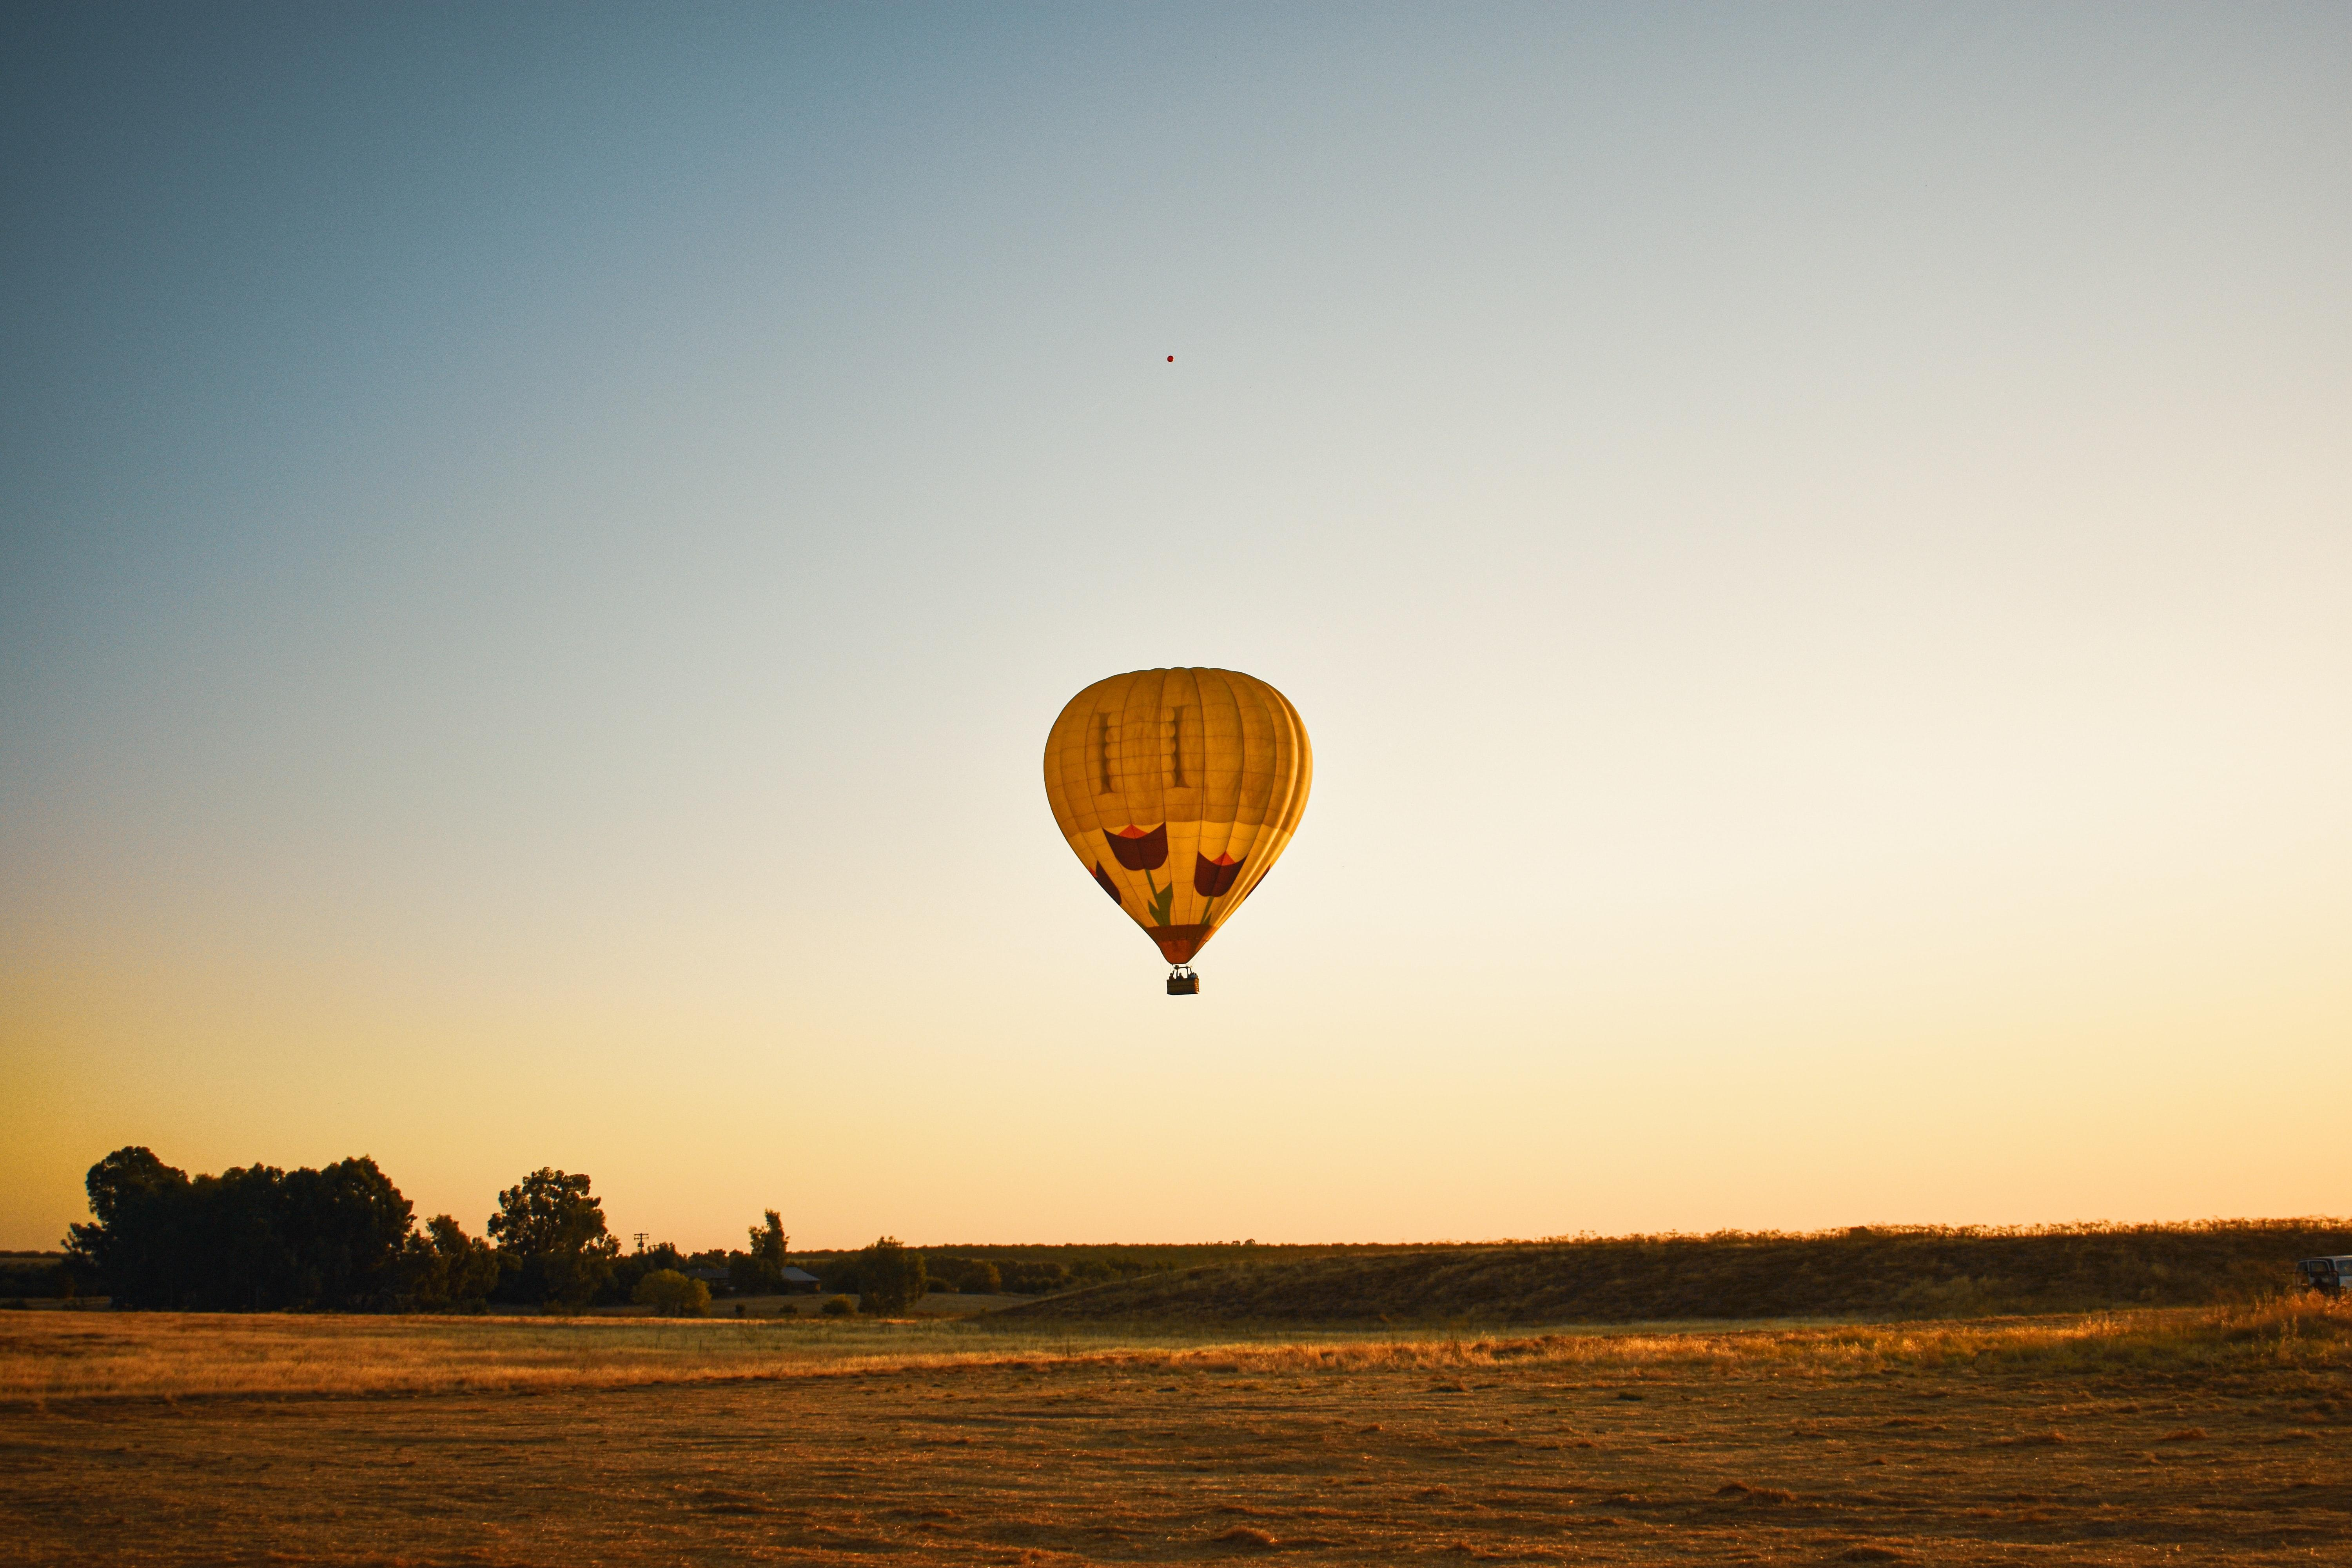hot air ballon: (1041, 668, 1312, 994)
